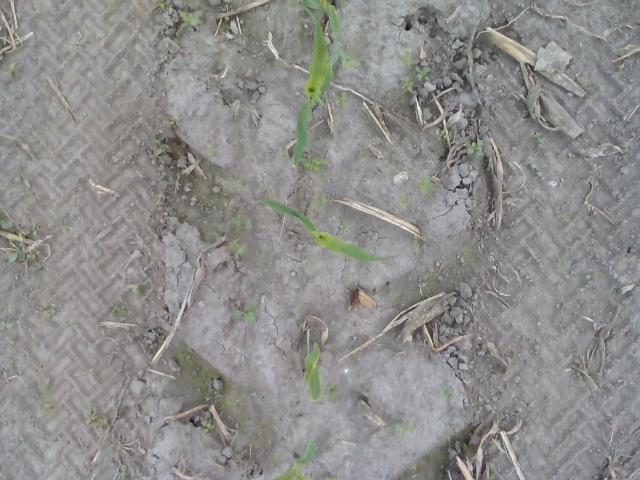Maize: (292, 0, 363, 169), (258, 197, 398, 264), (270, 437, 316, 480), (300, 340, 325, 403)
Weeds: (0, 216, 40, 243), (228, 299, 256, 327), (383, 416, 416, 439), (6, 251, 42, 271), (229, 213, 257, 234), (303, 154, 329, 174), (213, 391, 240, 410), (309, 189, 332, 210), (84, 410, 108, 430), (414, 174, 438, 193), (227, 239, 251, 256), (151, 138, 169, 157), (464, 140, 483, 158), (110, 304, 130, 320), (415, 64, 433, 80), (180, 10, 198, 26), (400, 77, 418, 92), (398, 48, 413, 66), (334, 91, 352, 105), (528, 130, 544, 145), (1, 63, 16, 78), (205, 142, 219, 158), (200, 419, 216, 433), (153, 0, 175, 9), (434, 128, 448, 142), (41, 400, 55, 414), (440, 385, 453, 400), (42, 306, 58, 318), (0, 320, 16, 332), (304, 258, 318, 271), (398, 192, 409, 208), (326, 383, 336, 400), (118, 463, 128, 480), (167, 117, 178, 129), (339, 222, 352, 232), (561, 211, 571, 223), (415, 234, 427, 243), (324, 475, 344, 480), (407, 464, 417, 474), (560, 254, 568, 266), (232, 180, 241, 189), (461, 442, 470, 449)
